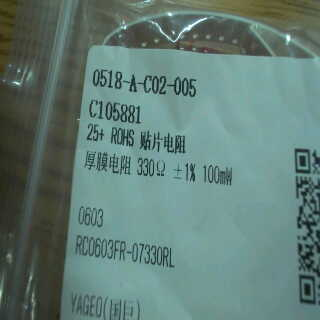330R: (135, 156, 170, 181)
